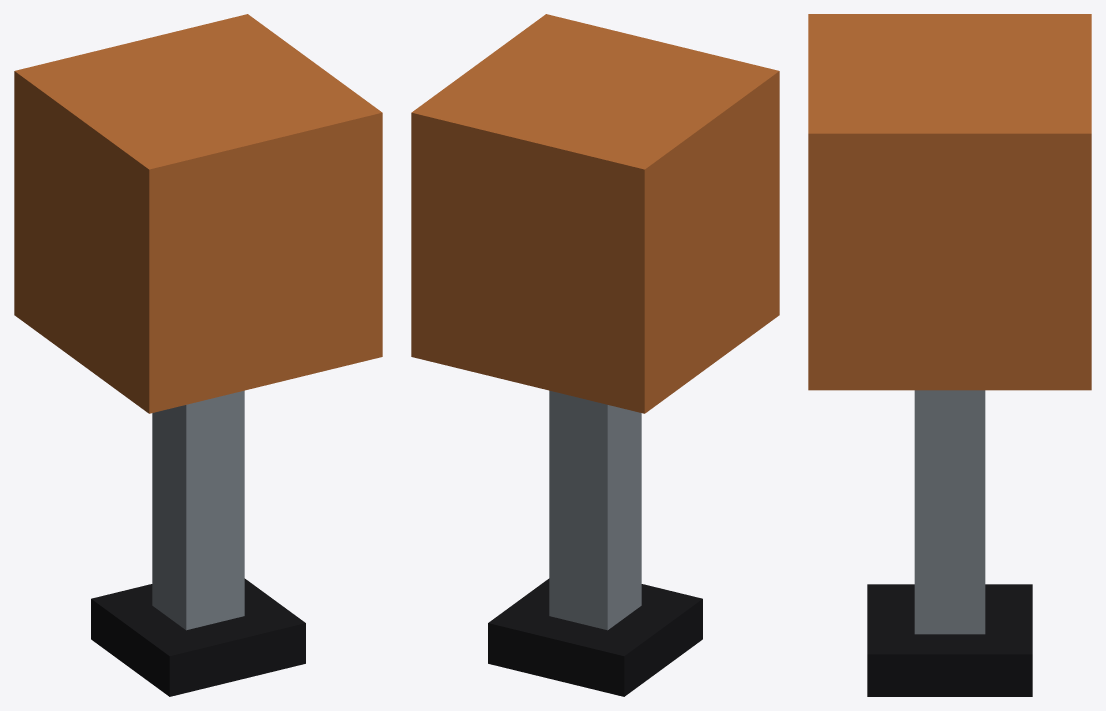
Rendered from assembler_1_carriage.obj.
3 renders of one model, left to right at view 1: azimuth 30°, elevation 25°; view 2: azimuth 150°, elevation 25°; view 3: azimuth 270°, elevation 25°, orthographic. The views are drawn at different scales.
Visible parts, largest first — view 1: Body; view 2: Body; view 3: Body.
Part boxes in pixels (x1,y1,x2,y2): Body: (14, 14, 382, 696); Body: (411, 14, 779, 696); Body: (808, 14, 1091, 696).
Size of the model in its own units: 0.12 by 0.275 by 0.12.
